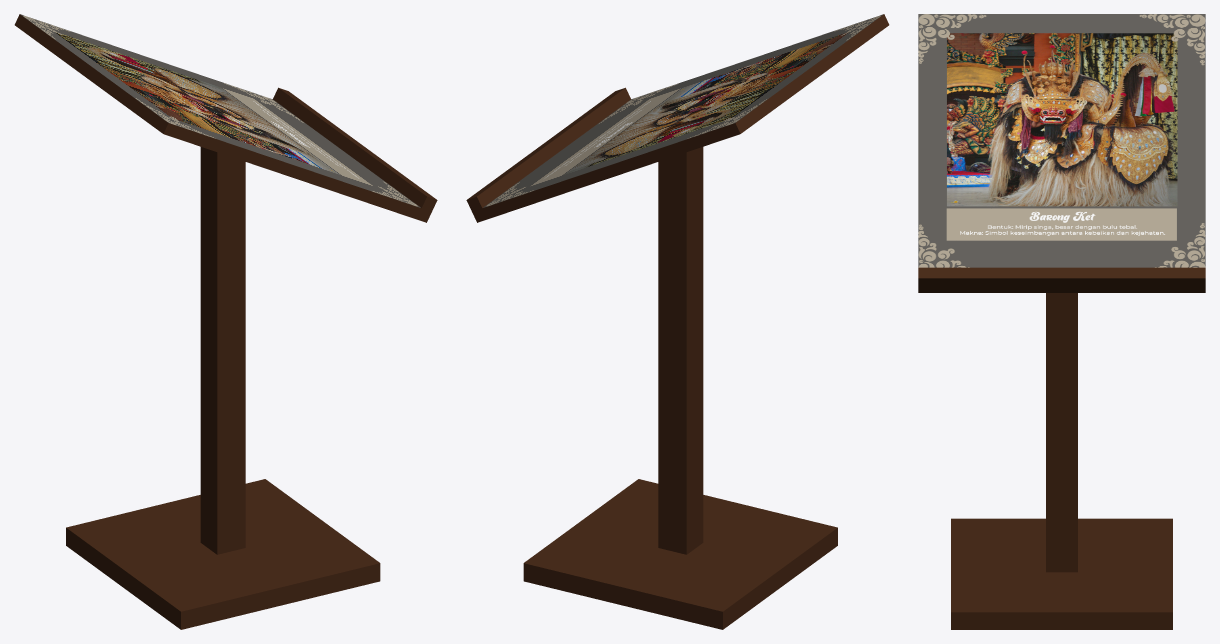
The model's file is Barong Ket.glb.
3 renders of one model, left to right at view 1: azimuth 30°, elevation 25°; view 2: azimuth 150°, elevation 25°; view 3: azimuth 270°, elevation 25°, orthographic. The views are drawn at different scales.
Visible parts, largest first — view 1: Cube.001, Cube.002, Cube; view 2: Cube.001, Cube.002, Cube; view 3: Cube.002, Cube.001, Cube.
Part boxes in pixels (left/top/right/bottom): Cube.001: left=66, top=479, right=380, bottom=629; Cube.002: left=14, top=14, right=437, bottom=222; Cube: left=200, top=147, right=245, bottom=554; Cube.001: left=523, top=479, right=837, bottom=629; Cube.002: left=466, top=14, right=889, bottom=222; Cube: left=658, top=147, right=703, bottom=554; Cube.002: left=918, top=14, right=1205, bottom=292; Cube.001: left=951, top=518, right=1172, bottom=629; Cube: left=1046, top=293, right=1077, bottom=572.
Size of the model in its own units: 0.6504 by 1.19 by 0.6117.
2 materials, 1 textured.
